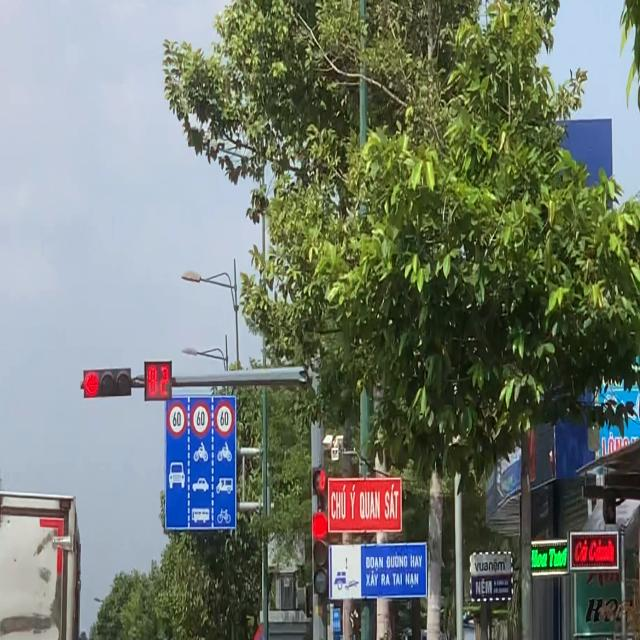Toc do toi da: (166, 403, 188, 438), (190, 403, 210, 437), (214, 403, 234, 436)
